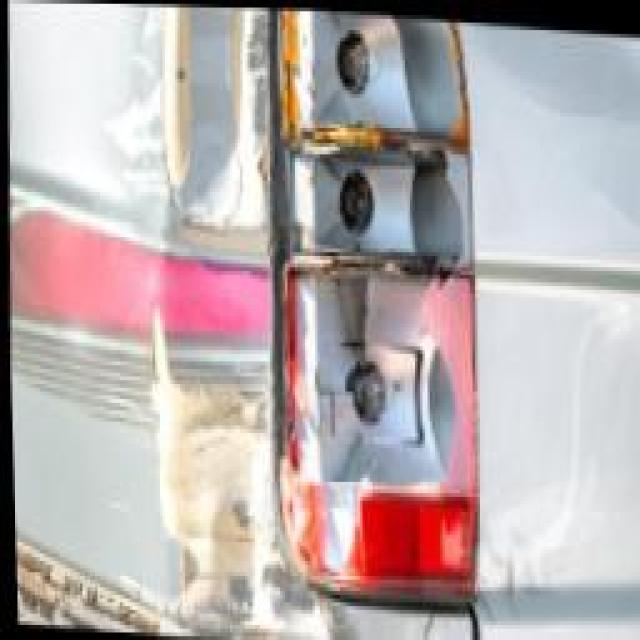Fender: (92, 8, 300, 640)
Light: (272, 8, 488, 589)
